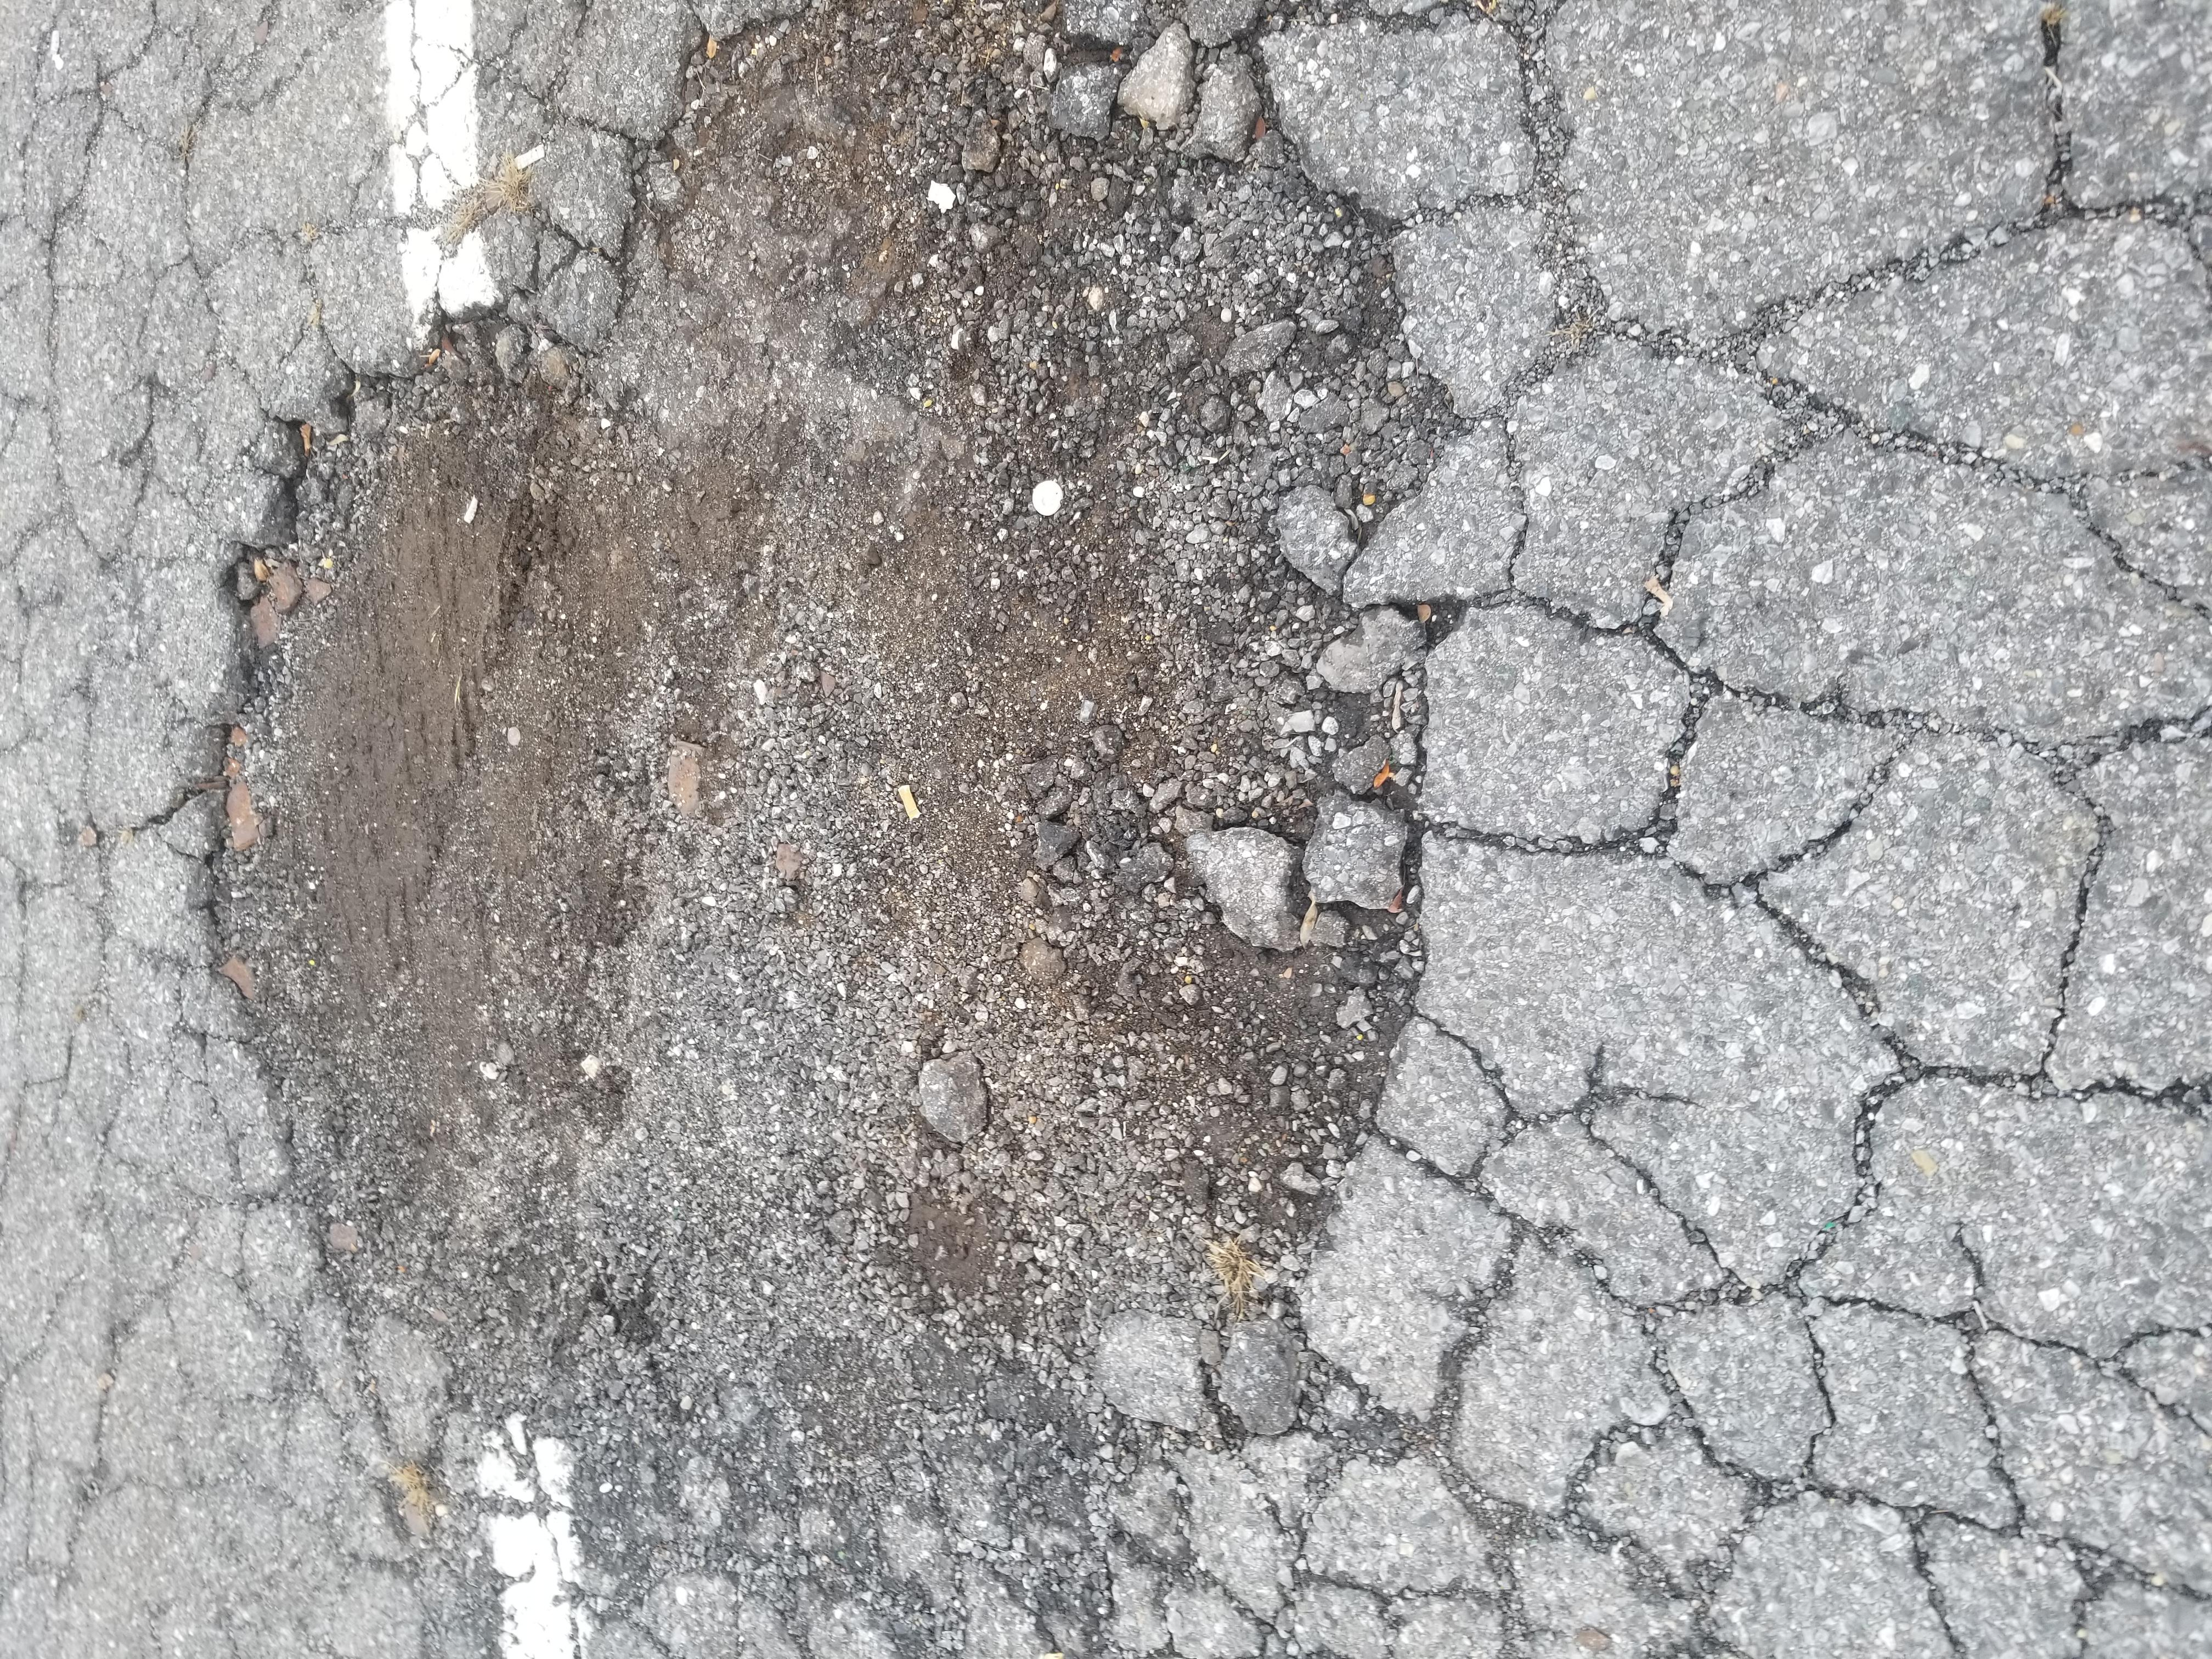alligator-crack: (0, 0, 2212, 1659)
pothole: (230, 134, 2184, 1053), (2198, 1077, 2212, 1089)
